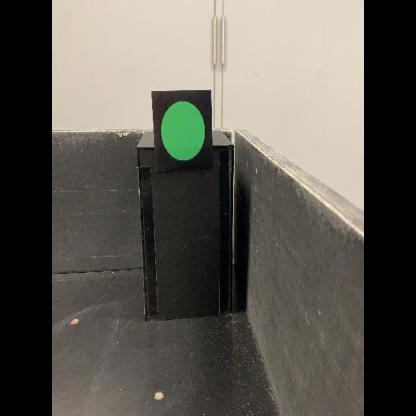go: (151, 89, 214, 174)
